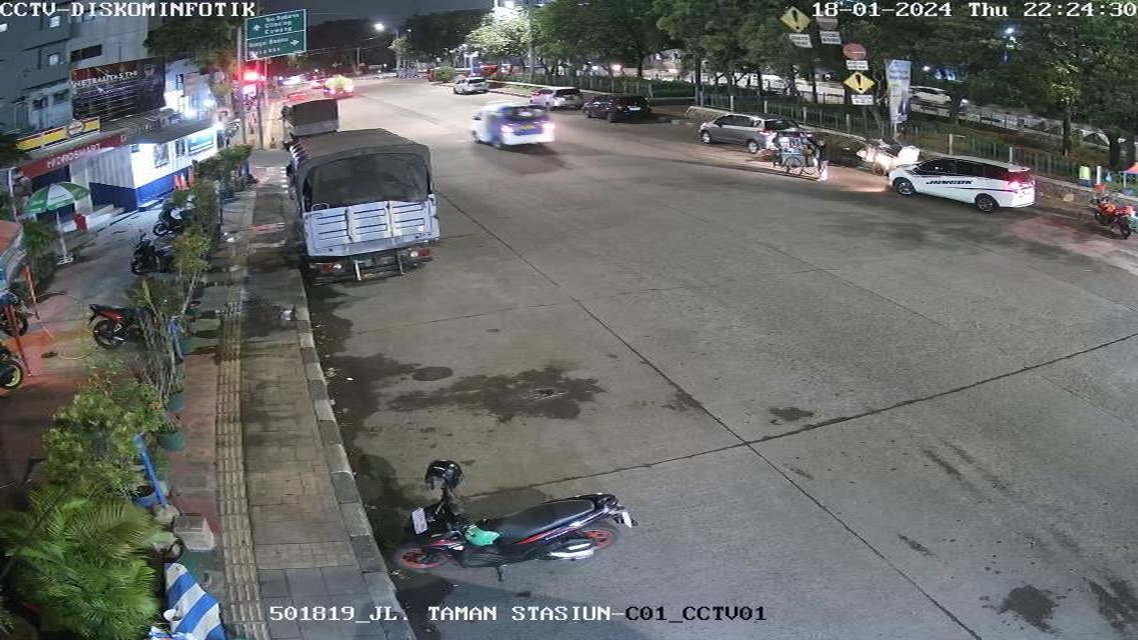Gerobak: (766, 127, 821, 180), (857, 135, 916, 175)
